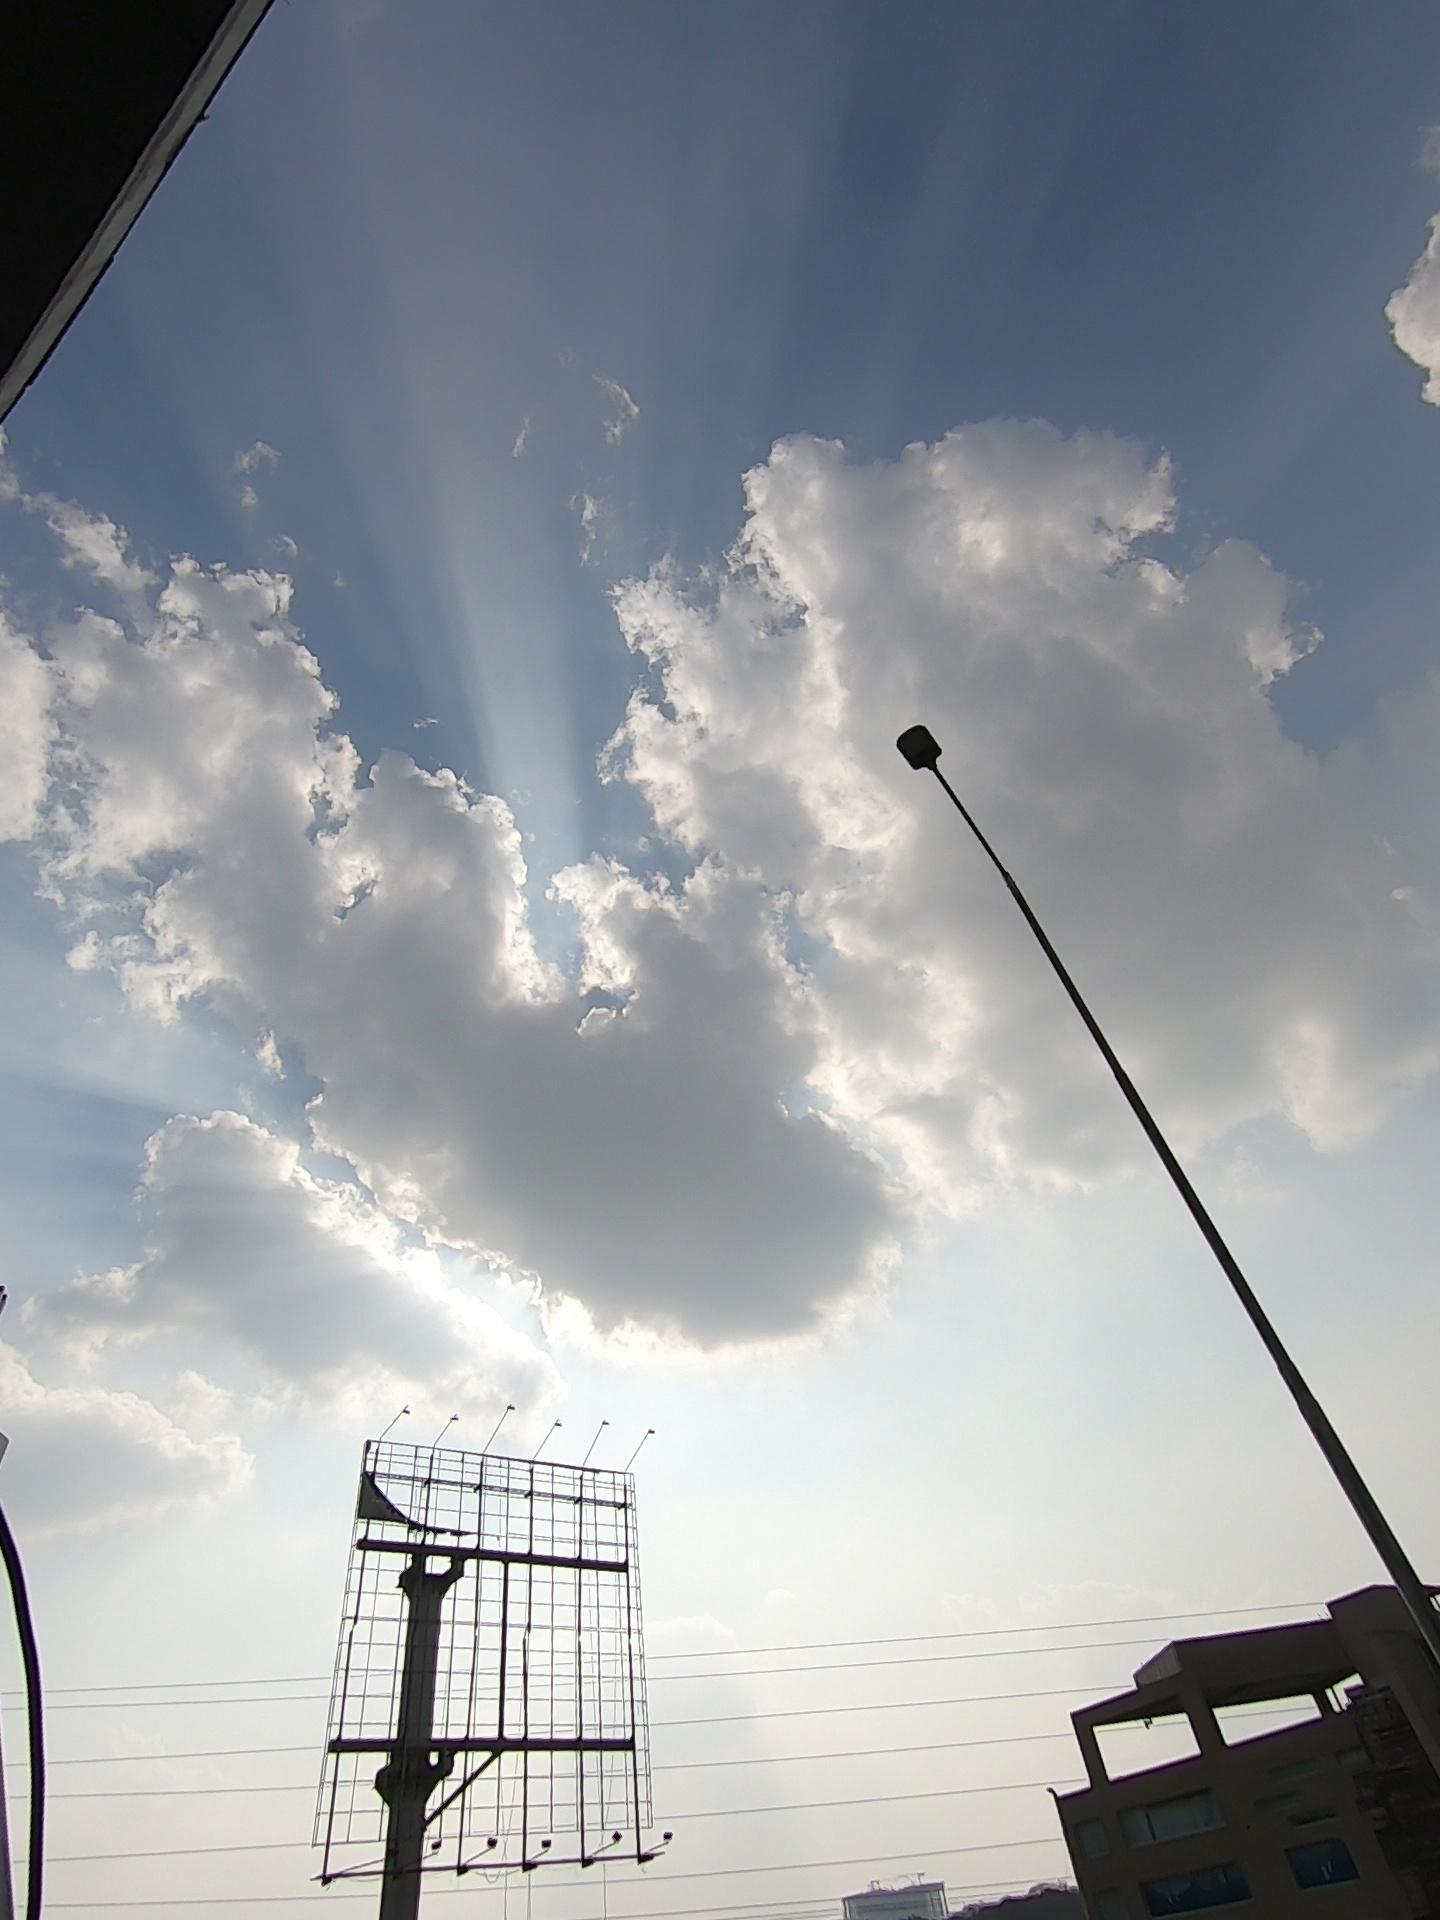off: (861, 646, 1015, 919)
